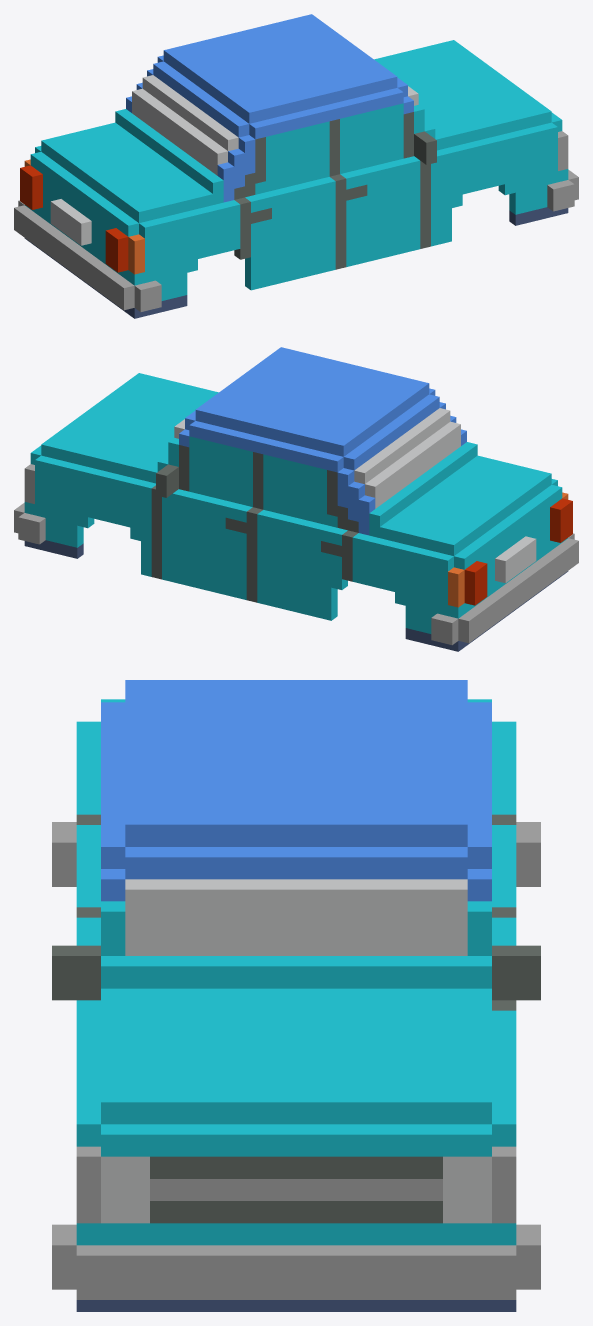
Rendered from vrwrfe-2.obj.
The picture shows the model from 3 angles, top to bottom: view 1: azimuth 30°, elevation 25°; view 2: azimuth 150°, elevation 25°; view 3: azimuth 270°, elevation 25°; orthographic projection. The views are drawn at different scales.
Size of the model in its own units: 4.3 by 1.5 by 2.
1 material, 1 textured.
